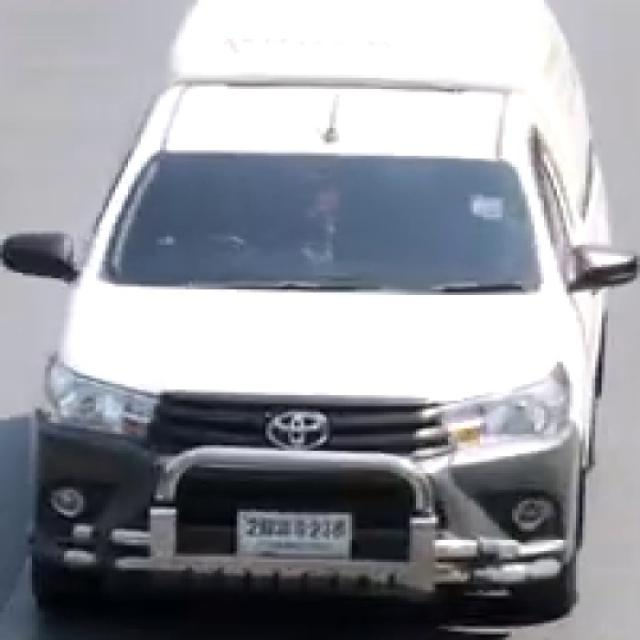plate: (236, 511, 354, 561)
